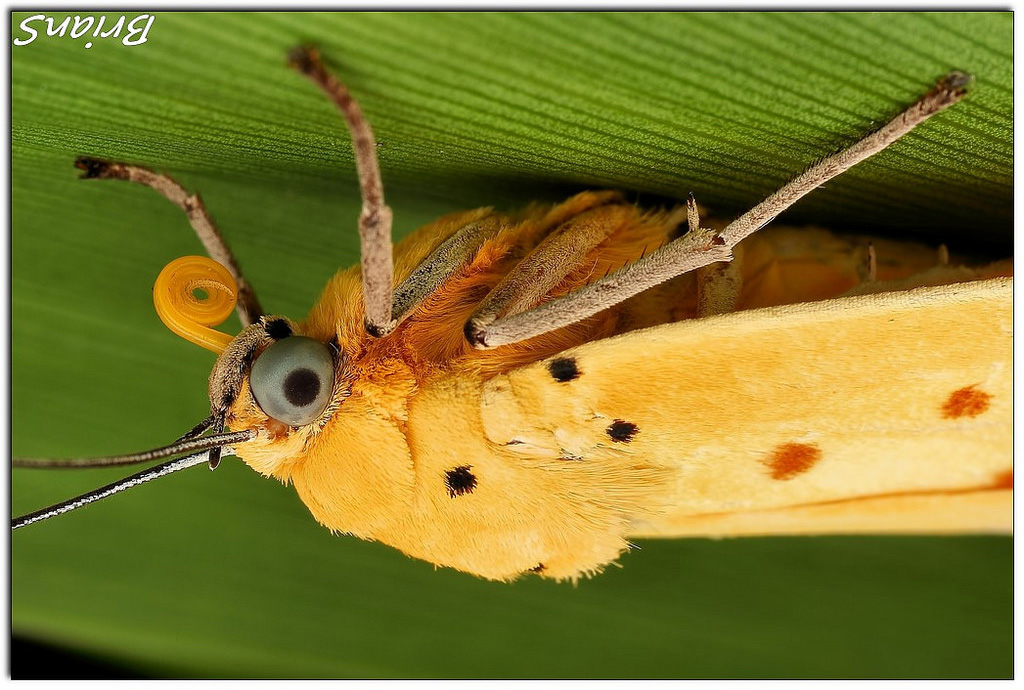Agape chloropyga: (7, 49, 1009, 592)
moth: (9, 51, 1011, 594)
